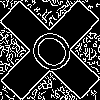O: (25, 25, 85, 85)
